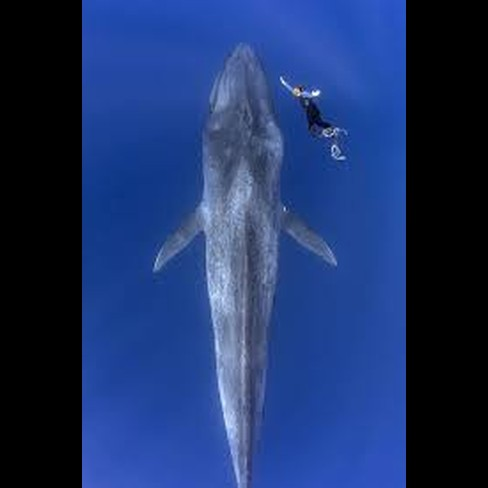bluewhale: (151, 40, 341, 488)
